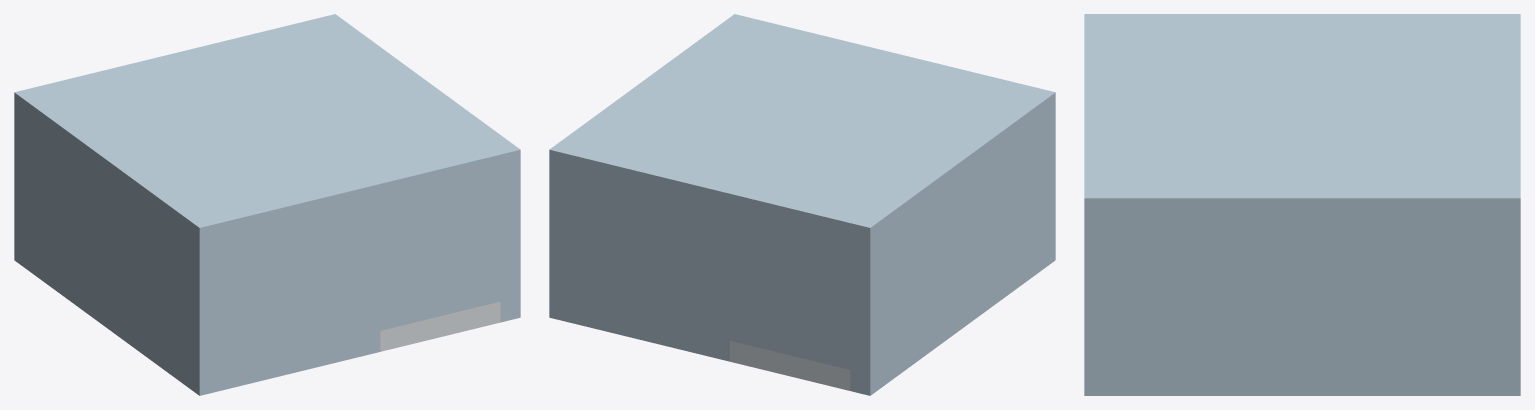
Rendered from ice-passage.glb.
The picture shows the model from 3 angles, left to right: view 1: azimuth 30°, elevation 25°; view 2: azimuth 150°, elevation 25°; view 3: azimuth 270°, elevation 25°; orthographic projection. The views are drawn at different scales.
Visible parts, largest first — view 1: ice-rock_11, ice-rock_1, plug_ice_south, ice-rock_5, ice-rock_10, ice-rock_7, ice-rock_9, ice-rock_8, snow_10; view 2: ice-rock_11, ice-rock_1, ice-rock_2, plug_ice_north, snow_1; view 3: ice-rock_11, ice-rock_8, ice-rock_3, ice-rock_6, ice-rock_4, ice-rock_2.
Boxes of the visible parts, <box> form: ice-rock_11: <box>14,14,520,248</box>; ice-rock_1: <box>14,113,219,395</box>; plug_ice_south: <box>380,175,500,330</box>; ice-rock_5: <box>219,234,259,390</box>; ice-rock_10: <box>340,205,380,361</box>; ice-rock_7: <box>260,224,299,380</box>; ice-rock_9: <box>300,215,339,371</box>; ice-rock_8: <box>500,170,520,322</box>; snow_10: <box>380,301,500,351</box>; ice-rock_11: <box>549,14,1055,248</box>; ice-rock_1: <box>850,113,1055,395</box>; ice-rock_2: <box>549,170,729,361</box>; plug_ice_north: <box>730,215,850,369</box>; snow_1: <box>730,341,850,390</box>; ice-rock_11: <box>1084,14,1520,222</box>; ice-rock_8: <box>1084,223,1329,395</box>; ice-rock_3: <box>1438,223,1493,395</box>; ice-rock_6: <box>1329,223,1384,395</box>; ice-rock_4: <box>1384,223,1438,395</box>; ice-rock_2: <box>1493,223,1520,395</box>.
Bounding box in the file's own units: 8 × 4 × 8.
